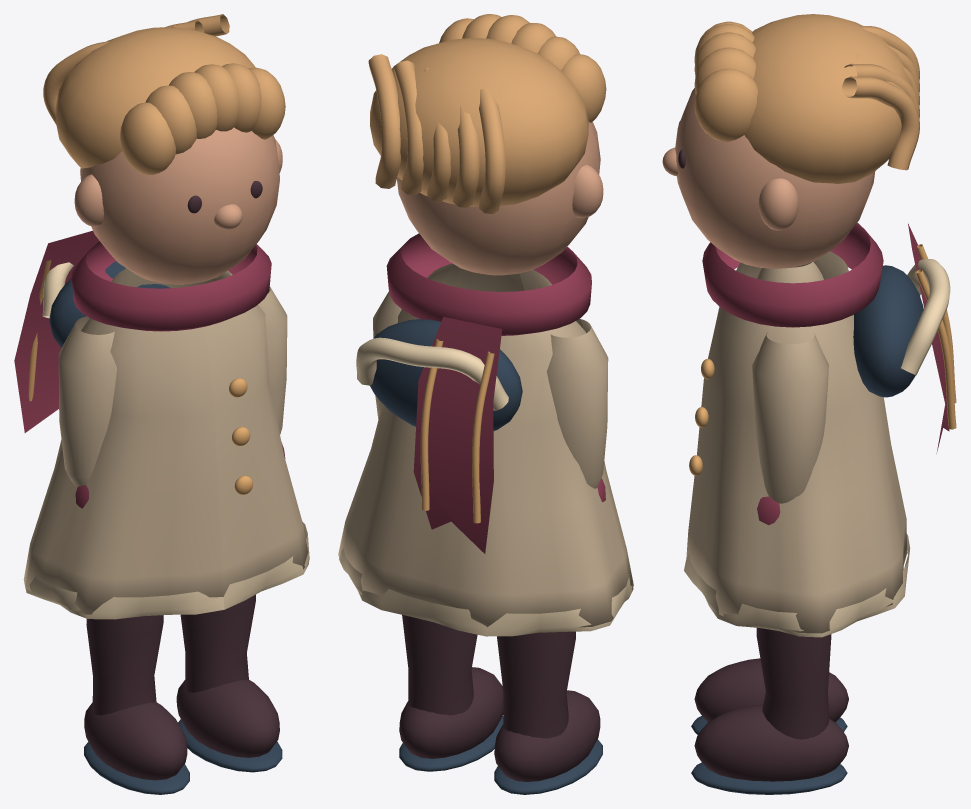
Rendered from winter-courier.glb.
The picture shows the model from 3 angles, left to right: view 1: azimuth 30°, elevation 25°; view 2: azimuth 150°, elevation 25°; view 3: azimuth 270°, elevation 25°; orthographic projection. The views are drawn at different scales.
Visible parts, largest first — view 1: Swing coat, Tapered head, Hair cap, Wrapped scarf, Cut sleeve, Boot shaft, Rounded boot.001, Rounded boot, Wool swallowtail, Piped hem, Boot shaft.001, Sculpted fringe (+15 smaller); view 2: Swing coat, Hair cap, Wool swallowtail, Tapered head, Wrapped scarf, Boot shaft, Cut sleeve, Boot shaft.001, Piped hem, Rounded boot, Rounded boot.001, Hood outer (+17 smaller); view 3: Swing coat, Hair cap, Tapered head, Cut sleeve.001, Wrapped scarf, Rounded boot.001, Boot shaft.001, Hood outer, Piped hem, Rounded boot, Sculpted fringe.005, Swept lock.004 (+12 smaller).
Part boxes in pixels (bbox=[...]): Swing coat: bbox=[23, 268, 309, 614]; Tapered head: bbox=[80, 127, 279, 284]; Hair cap: bbox=[55, 27, 255, 168]; Wrapped scarf: bbox=[72, 241, 271, 331]; Cut sleeve: bbox=[58, 316, 117, 486]; Boot shaft: bbox=[86, 615, 163, 715]; Rounded boot.001: bbox=[176, 679, 279, 757]; Rounded boot: bbox=[84, 702, 187, 780]; Wool swallowtail: bbox=[14, 230, 99, 432]; Piped hem: bbox=[26, 521, 309, 619]; Boot shaft.001: bbox=[180, 594, 255, 692]; Sculpted fringe: bbox=[120, 102, 175, 174]; Swing coat: bbox=[338, 263, 633, 627]; Hair cap: bbox=[370, 38, 588, 206]; Wool swallowtail: bbox=[413, 317, 502, 553]; Tapered head: bbox=[397, 121, 600, 275]; Wrapped scarf: bbox=[386, 233, 591, 335]; Boot shaft: bbox=[497, 631, 575, 738]; Cut sleeve: bbox=[546, 319, 608, 488]; Boot shaft.001: bbox=[402, 615, 477, 715]; Piped hem: bbox=[339, 547, 633, 636]; Rounded boot: bbox=[494, 690, 600, 781]; Rounded boot.001: bbox=[399, 667, 503, 758]; Hood outer: bbox=[370, 319, 522, 430]; Swing coat: bbox=[686, 251, 907, 633]; Hair cap: bbox=[744, 14, 912, 183]; Tapered head: bbox=[675, 88, 875, 268]; Cut sleeve.001: bbox=[752, 332, 828, 503]; Wrapped scarf: bbox=[702, 223, 883, 327]; Rounded boot.001: bbox=[694, 705, 848, 781]; Boot shaft.001: bbox=[756, 627, 831, 739]; Hood outer: bbox=[853, 265, 923, 397]; Piped hem: bbox=[684, 533, 910, 637]; Rounded boot: bbox=[694, 658, 848, 722]; Sculpted fringe.005: bbox=[694, 68, 757, 141]; Swept lock.004: bbox=[842, 76, 919, 170].
Bounding box in the file's own units: 0.6439 × 1.64 × 0.5969.
